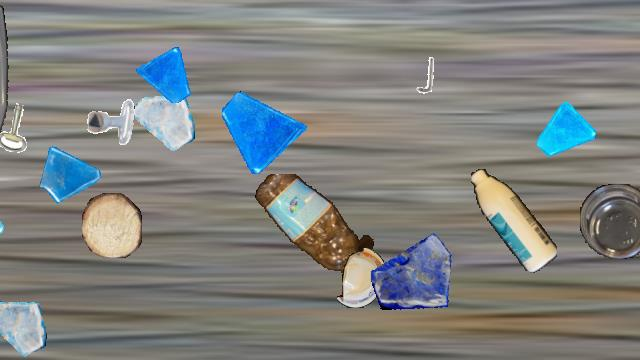glass: (371, 227, 457, 313), (222, 89, 306, 173), (37, 140, 103, 206), (134, 93, 194, 153), (537, 102, 595, 160), (136, 46, 192, 102), (0, 299, 47, 359), (0, 179, 5, 259)
metal: (86, 97, 138, 149), (0, 100, 45, 156), (404, 55, 444, 95), (639, 294, 640, 344)
plastic: (252, 174, 376, 272), (471, 169, 557, 273), (580, 184, 640, 258), (337, 248, 387, 308), (0, 1, 13, 177)
wood: (82, 193, 142, 257), (0, 9, 6, 41)
